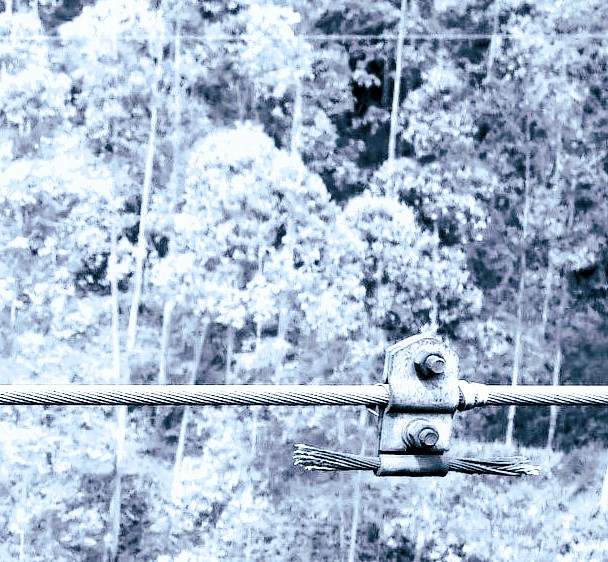Damage of shockproof hammer: (277, 320, 563, 500)
